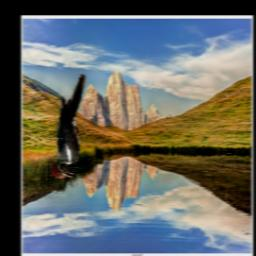Woodpecker: (53, 75, 85, 179)
